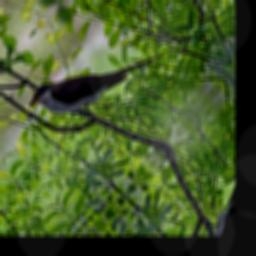Cuckoo: (23, 4, 165, 157)
